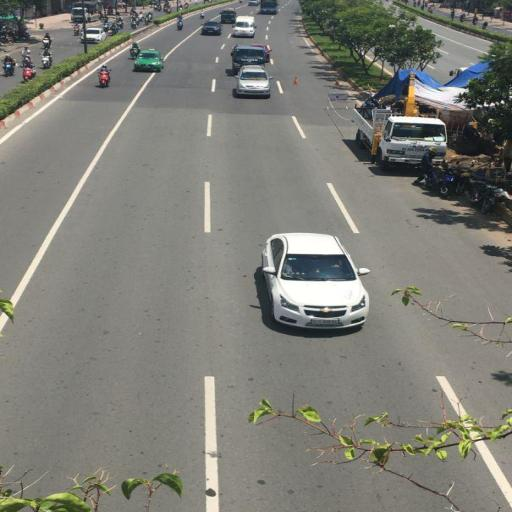car: (252, 233, 371, 336), (235, 67, 272, 99), (133, 48, 164, 72), (231, 16, 256, 40), (83, 27, 106, 44), (202, 20, 222, 36)
motorcycle: (22, 66, 35, 81)
truck: (350, 100, 448, 172), (229, 44, 272, 77), (259, 1, 278, 16)
